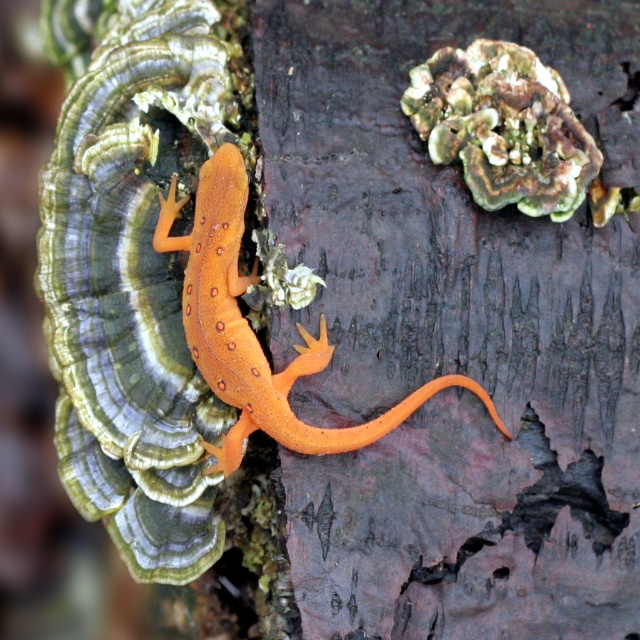Lizard: (154, 143, 511, 474)
